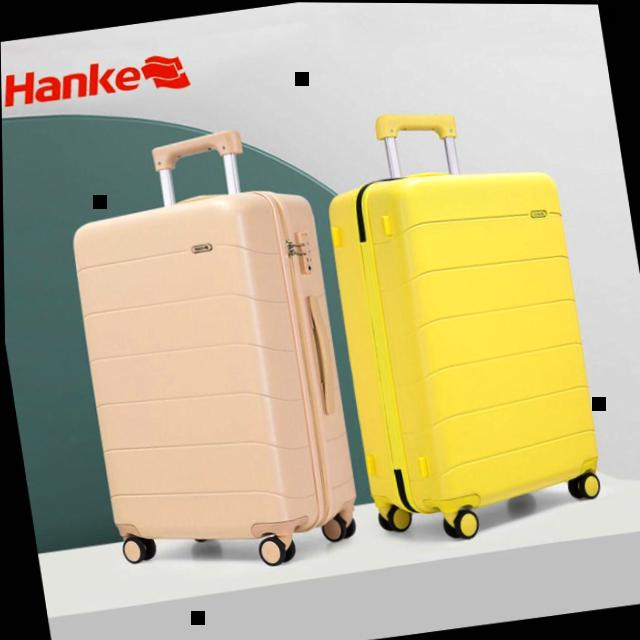luggage: (58, 174, 366, 578), (315, 140, 612, 550)
